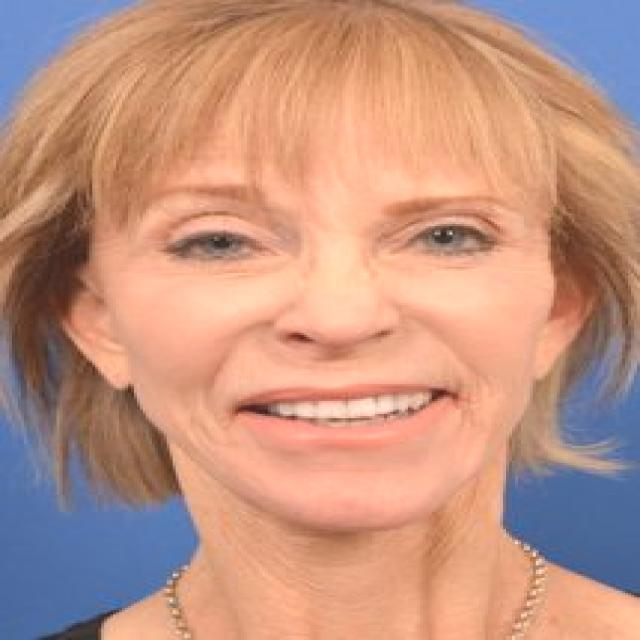normal_face: (69, 39, 602, 536)
